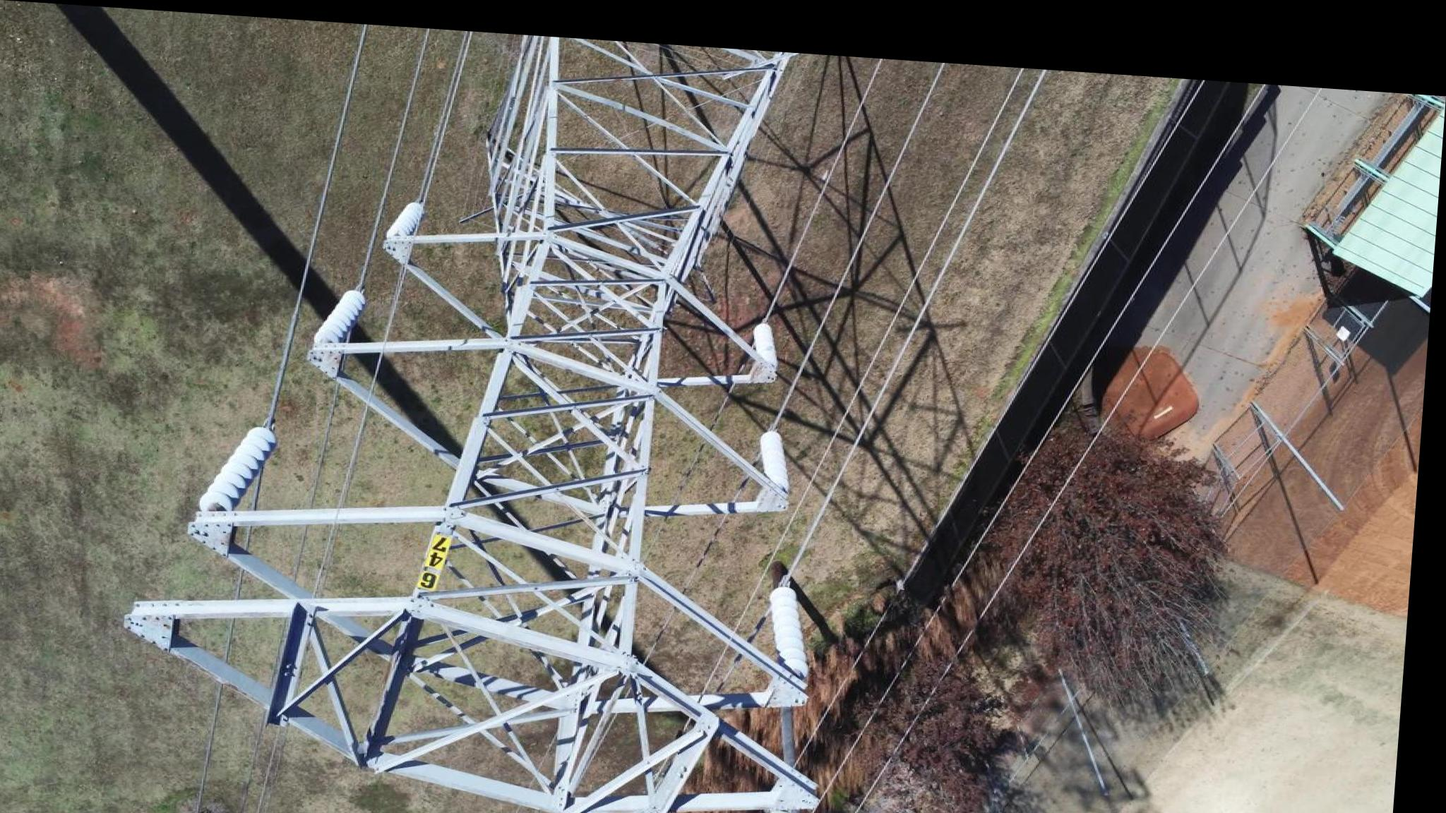tower: (108, 11, 876, 813)
